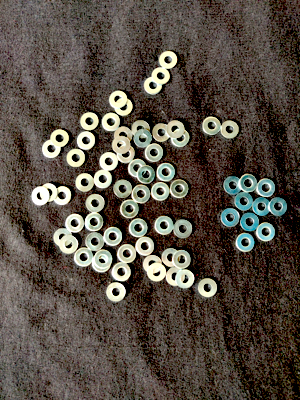circle: (74, 248, 94, 268), (156, 162, 176, 182), (199, 278, 218, 298), (112, 262, 131, 282), (236, 233, 256, 252), (257, 222, 276, 242), (241, 212, 260, 232), (174, 219, 193, 239), (162, 248, 181, 268), (118, 244, 137, 264), (129, 219, 149, 238), (132, 184, 151, 204), (171, 129, 191, 148), (59, 236, 79, 255), (107, 283, 126, 302), (176, 270, 195, 289), (167, 268, 186, 287), (148, 263, 167, 282), (221, 208, 240, 227), (224, 176, 243, 195), (257, 178, 276, 197), (155, 216, 174, 235), (136, 237, 155, 256), (173, 250, 192, 269), (76, 173, 95, 192), (94, 250, 113, 269), (171, 179, 190, 198), (137, 165, 156, 184), (94, 170, 113, 189), (100, 152, 119, 171), (114, 126, 133, 145), (145, 143, 164, 162), (203, 116, 222, 135), (134, 129, 153, 148), (132, 120, 151, 139), (81, 112, 100, 131), (77, 131, 96, 150), (51, 129, 70, 148), (86, 194, 105, 213), (104, 227, 123, 246), (86, 233, 105, 252), (66, 214, 85, 233), (235, 192, 254, 211), (253, 197, 271, 217), (93, 253, 111, 273), (42, 140, 62, 158), (152, 124, 172, 142), (144, 255, 162, 274), (270, 197, 288, 216), (240, 174, 258, 193), (53, 187, 72, 205), (128, 159, 147, 177), (114, 180, 133, 198), (112, 136, 131, 154), (221, 120, 239, 139), (102, 113, 121, 131), (67, 149, 86, 167), (86, 213, 104, 232), (109, 91, 128, 109), (145, 77, 164, 95), (160, 51, 179, 69), (167, 121, 186, 139), (32, 187, 50, 205), (121, 200, 139, 218), (152, 183, 170, 201), (117, 145, 135, 163), (54, 229, 72, 247), (40, 184, 58, 202), (115, 98, 133, 116), (152, 68, 171, 85)
